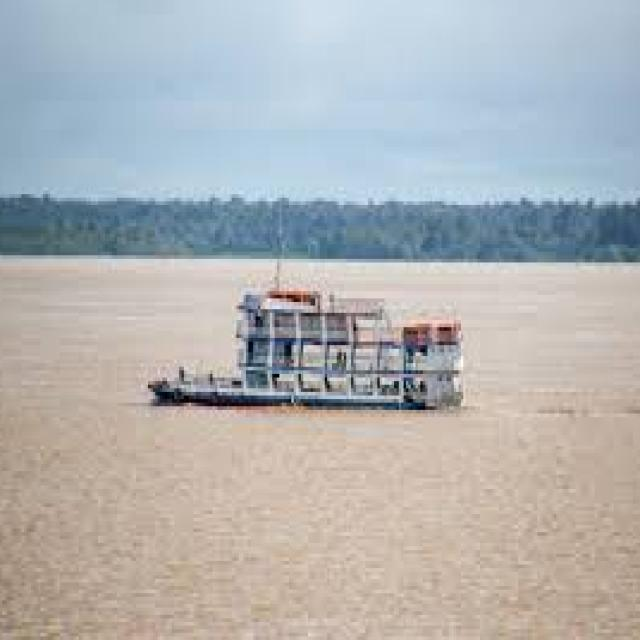houseboat: (146, 262, 493, 441)
